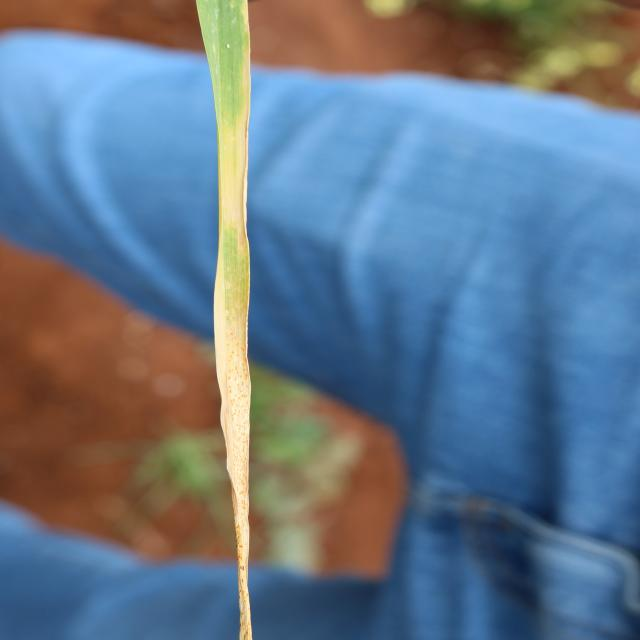Septoria: (232, 483, 252, 640), (216, 314, 248, 386), (225, 399, 248, 478)
